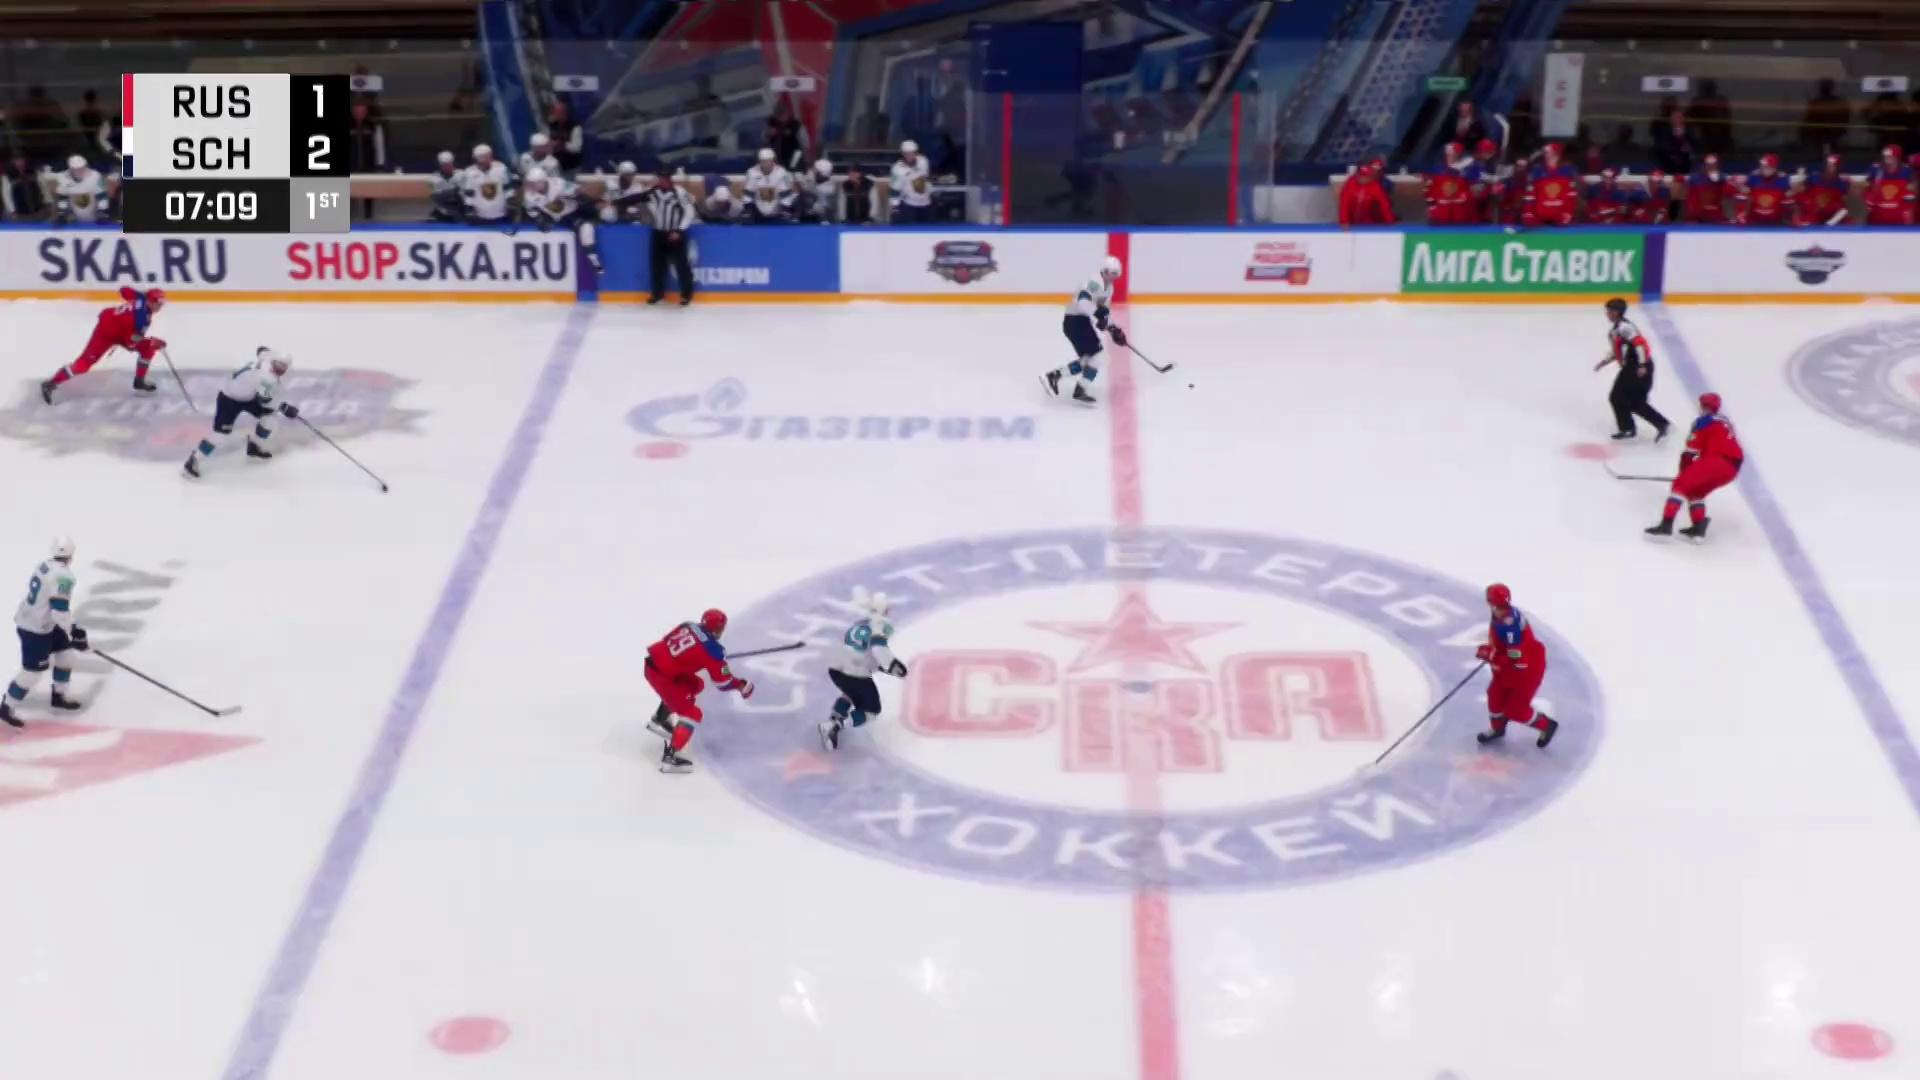ball: (1187, 382, 1196, 390)
